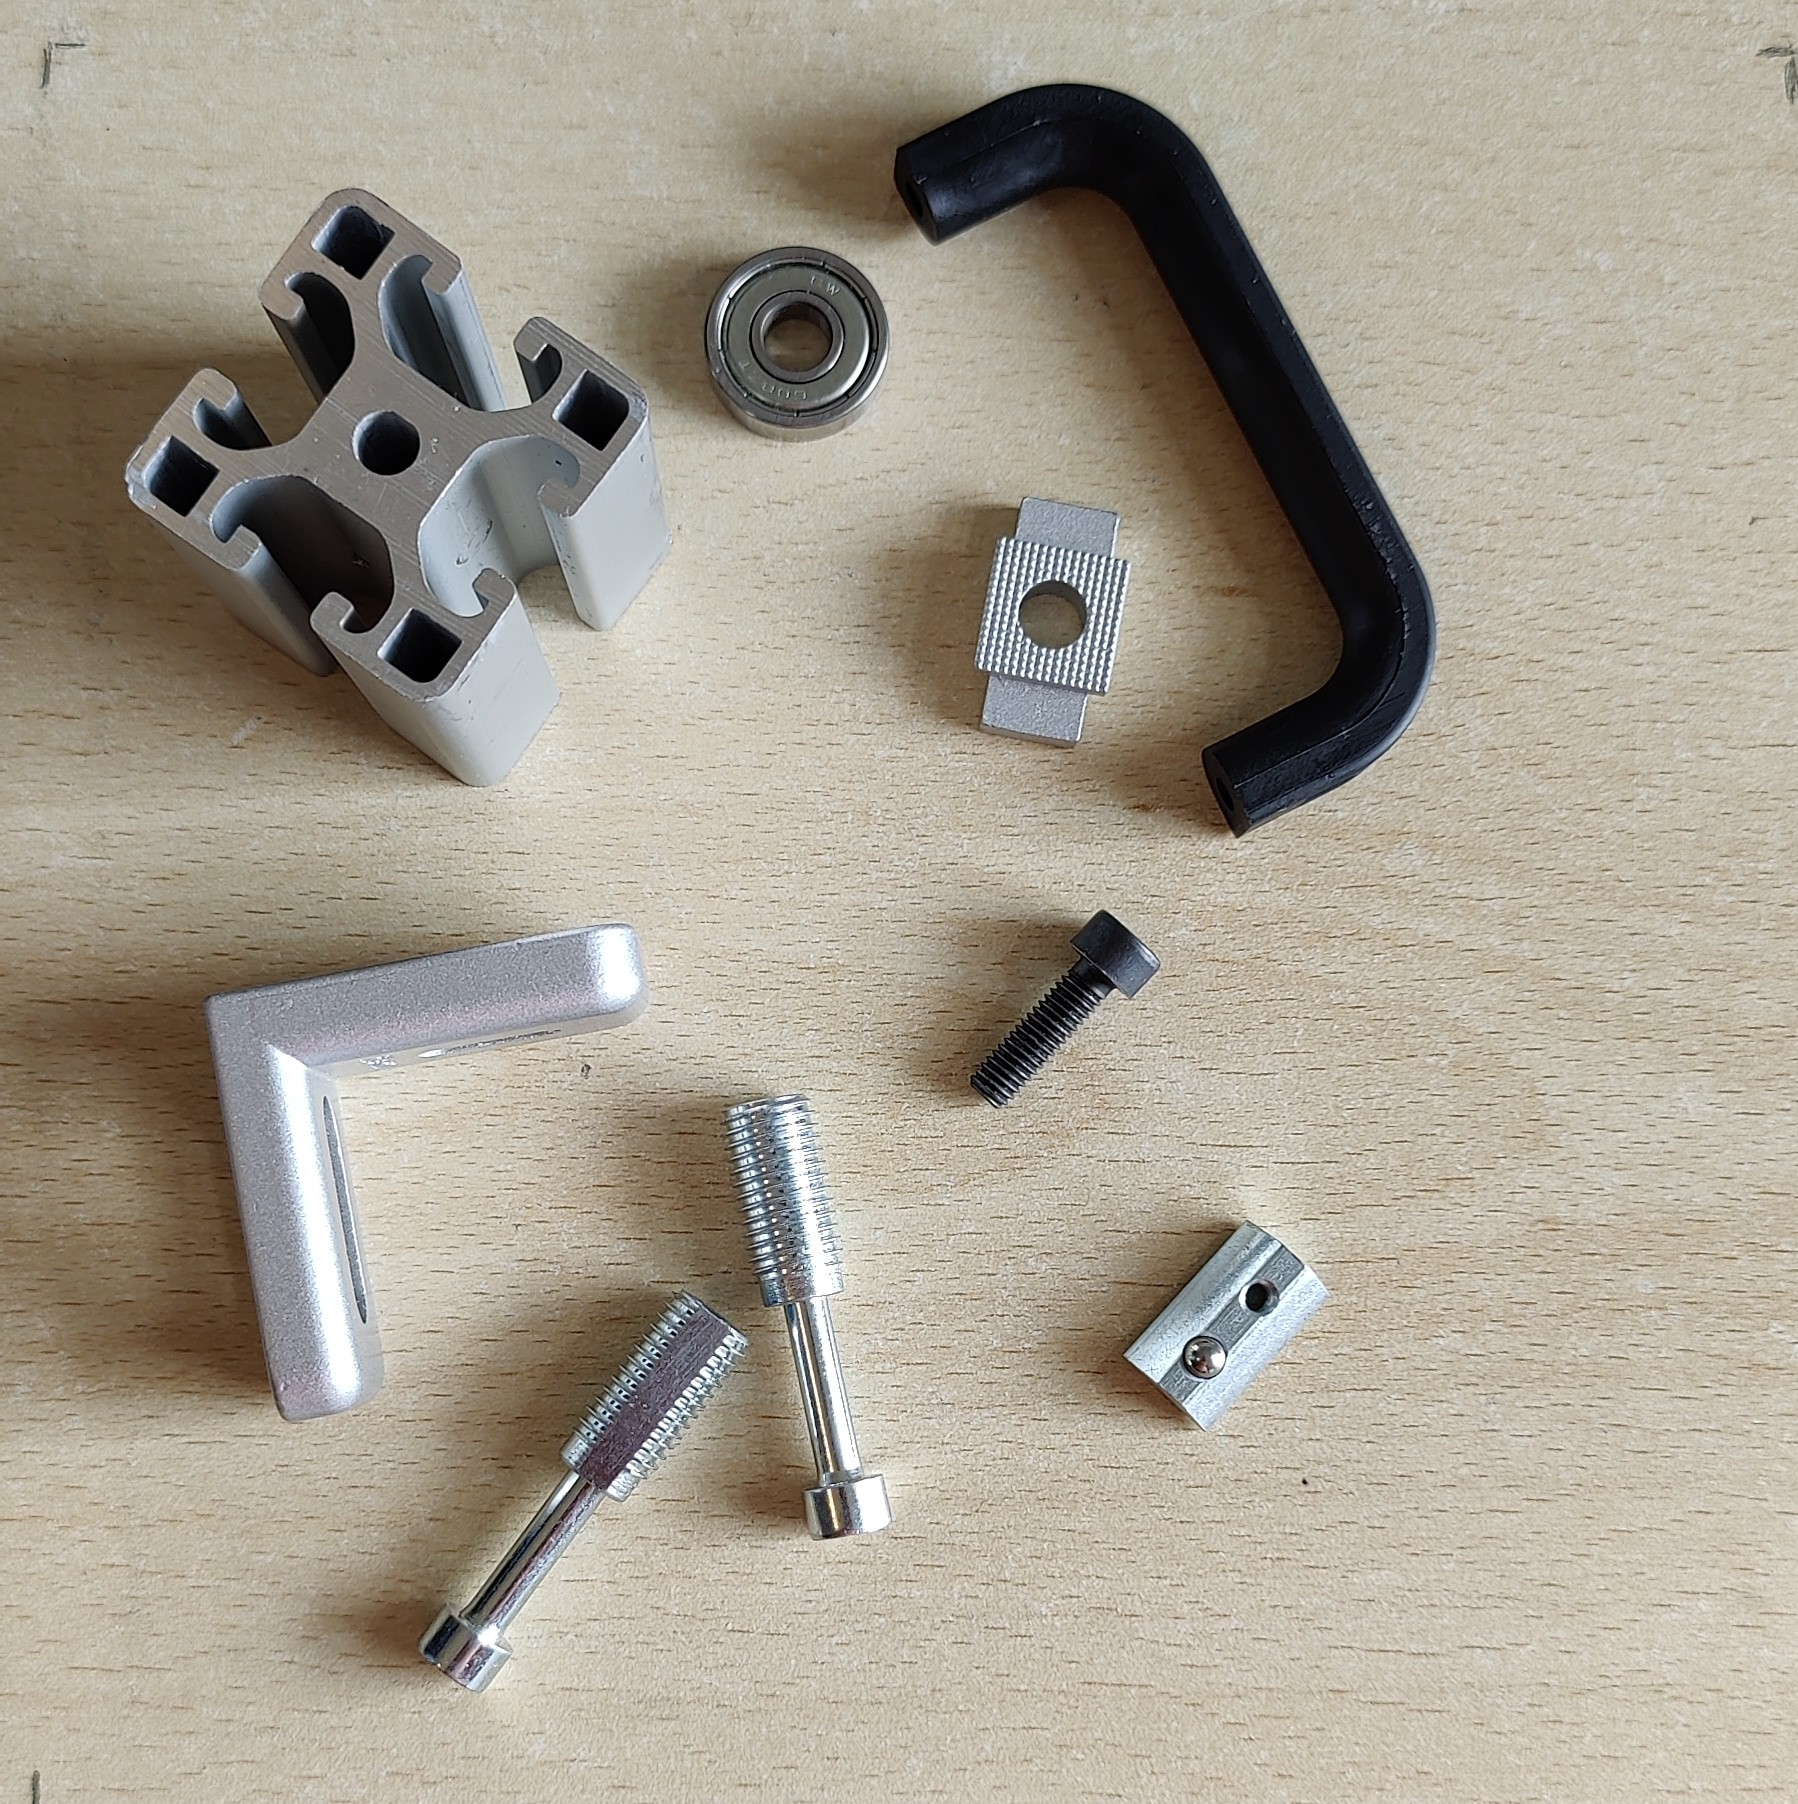Aluminium Extension: (120, 184, 678, 788)
Ball Bearing: (700, 245, 892, 444)
Multiwinkel: (199, 922, 650, 1427)
Pull Handle: (889, 79, 1439, 841)
Shoulder Socket Head Cap Screw: (417, 1286, 754, 1699), (720, 1091, 896, 1544)
Socket Head Cap Screw: (967, 907, 1166, 1111)
T Nut Square: (970, 494, 1133, 751)
T Spring Nut: (1121, 1215, 1332, 1434)
